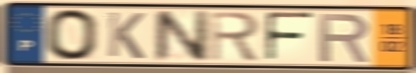F: (263, 10, 316, 64)
K: (105, 10, 146, 61)
N: (151, 8, 212, 64)
O: (43, 7, 101, 63)
R: (317, 12, 373, 64), (208, 10, 262, 63)
